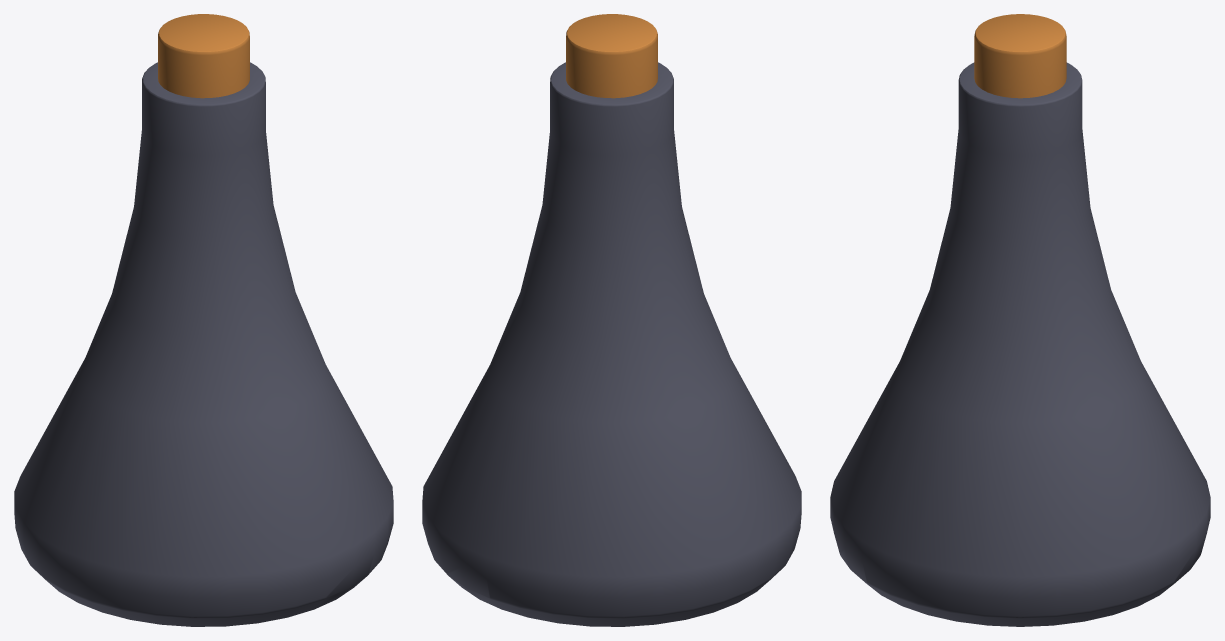
The model's file is Glass Reagent Bottle.fbx.
3 renders of one model, left to right at view 1: azimuth 30°, elevation 25°; view 2: azimuth 150°, elevation 25°; view 3: azimuth 270°, elevation 25°, orthographic.
Parts seen in each view (by area): view 1: Glass Reagent Bottle; view 2: Glass Reagent Bottle; view 3: Glass Reagent Bottle.
Boxes of the visible parts, bbox=[...] form: Glass Reagent Bottle: bbox=[14, 14, 393, 626]; Glass Reagent Bottle: bbox=[422, 14, 801, 626]; Glass Reagent Bottle: bbox=[830, 14, 1210, 626].
Bounding box in the file's own units: 37.41 × 57.51 × 37.41.
